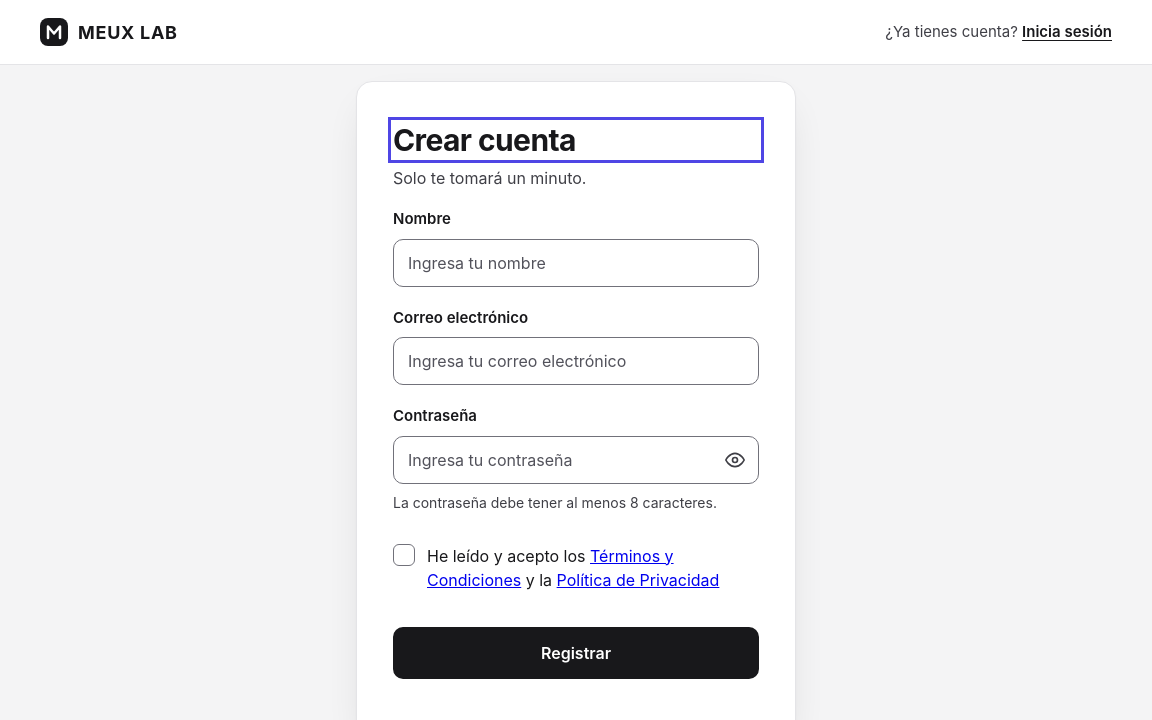
Test case: RegisterScreen › it allows you to show and hide the password during registration without submitting the form
Type "secret123" into the password field labelled "Contraseña".
click(576, 460); type("secret123")  # box x1=393 y1=436 x2=759 y2=484
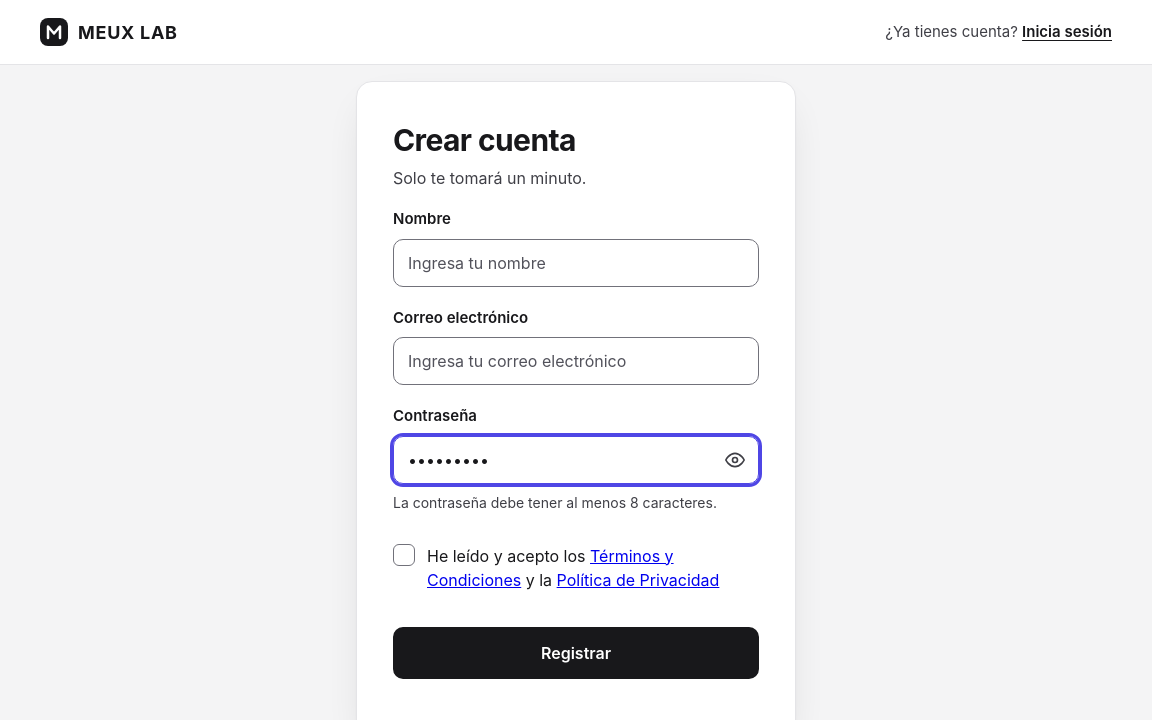
Click the button named "Mostrar contraseña".
click(735, 460)  # box x1=715 y1=440 x2=755 y2=480
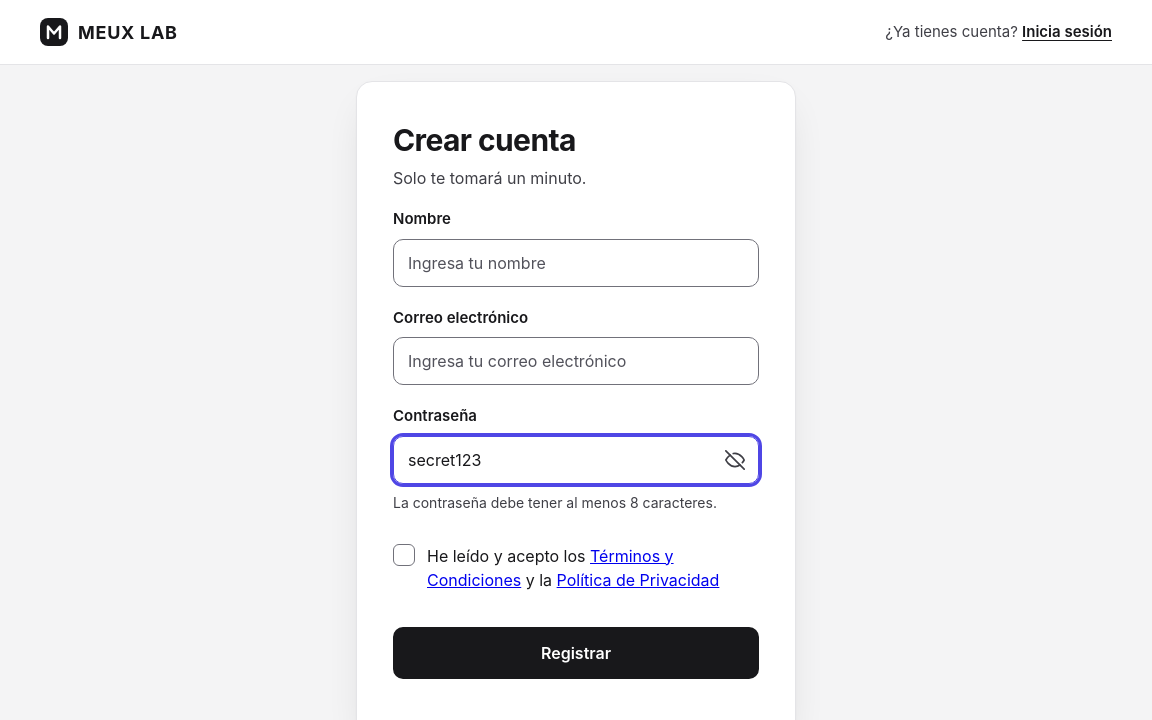
Expected: the field labelled "Contraseña" shows its text, x1=393 y1=436 x2=759 y2=484
